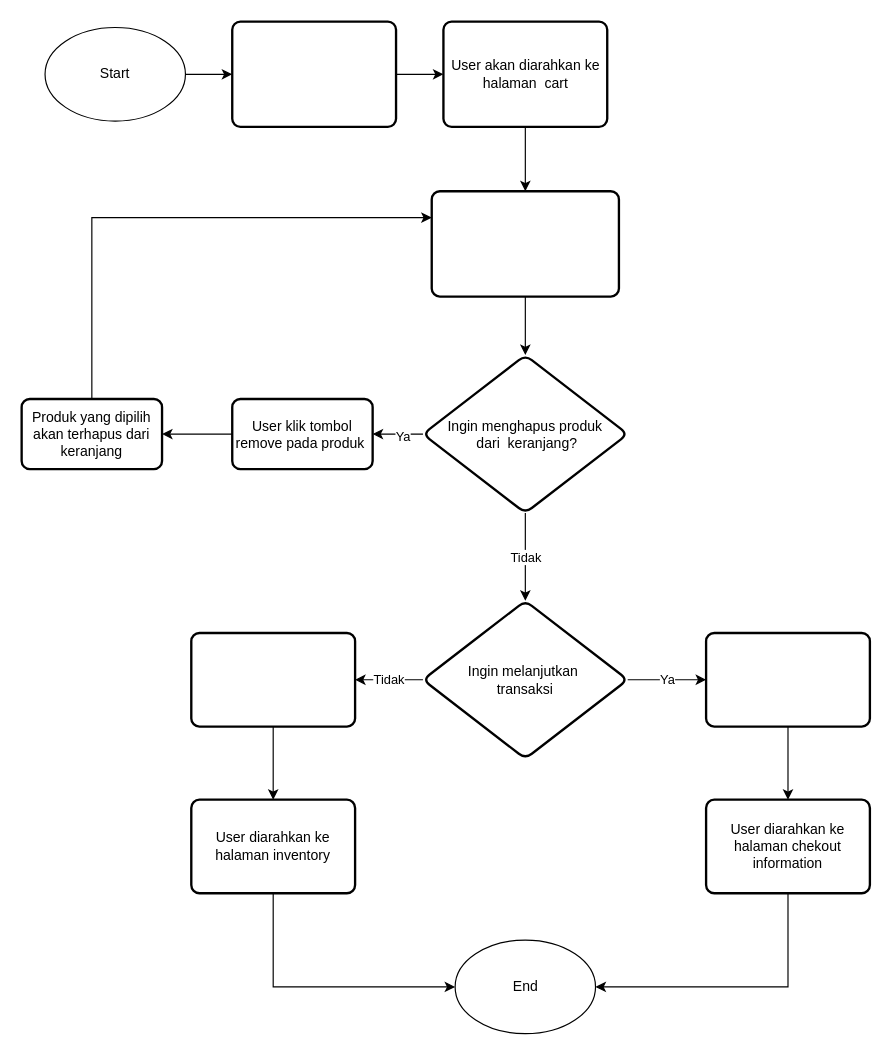
Image size: 890x1054. Some labels were removed from this diagram. The shapes that lost their labels are listed below. From the top down, each one's centre as x and y in pixels, then its label:
At [313,74]: "User klik tombol keranjang".
At [525,243]: "Sistem menampilkan informasi lengkap produk yang ada pada keranjang".
At [273,679]: "User klik tombol Continue Shopping".
At [787,679]: "User klik tombol Chekout".
